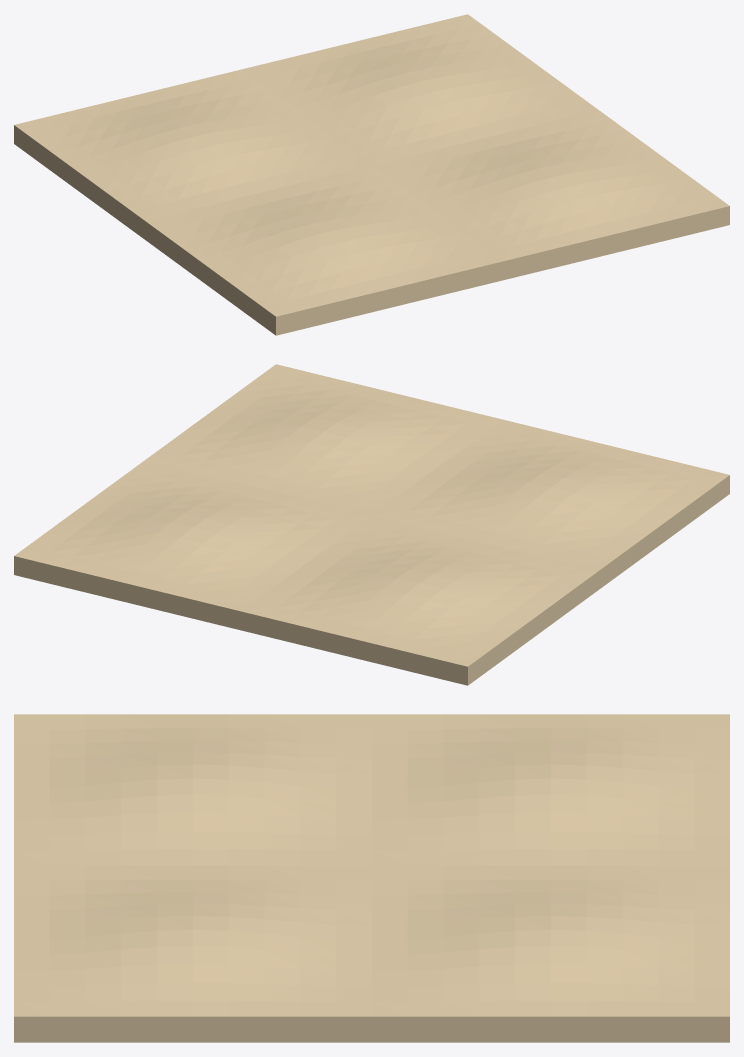
File: desert-canyons-and-oases-canyon-floor-tile-f7f05b0b__20915.glb
The picture shows the model from 3 angles, top to bottom: view 1: azimuth 30°, elevation 25°; view 2: azimuth 150°, elevation 25°; view 3: azimuth 270°, elevation 25°; orthographic projection. The views are drawn at different scales.
Parts seen in each view (by area): view 1: canyon-floor-tile; view 2: canyon-floor-tile; view 3: canyon-floor-tile.
Part boxes in pixels (x1,y1,x2,y2): canyon-floor-tile: (14, 14, 729, 335); canyon-floor-tile: (14, 364, 729, 685); canyon-floor-tile: (14, 714, 729, 1042).
Size of the model in its own units: 4 by 0.23 by 4.
